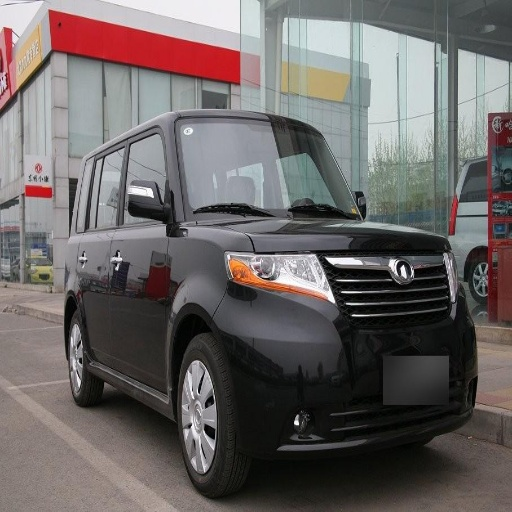front_bumper: (245, 250, 472, 450)
front_right_door: (110, 129, 177, 389)
front_right_light: (227, 251, 333, 299)
